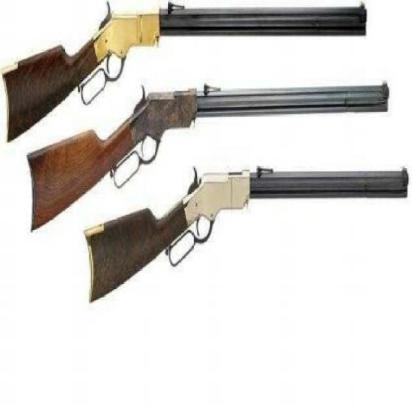Gun: (106, 83, 395, 159)
